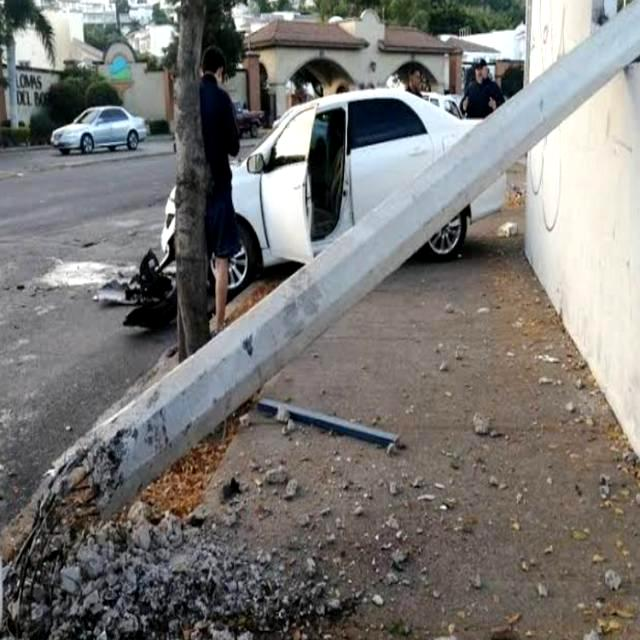Broken Pole: (1, 0, 639, 637)
